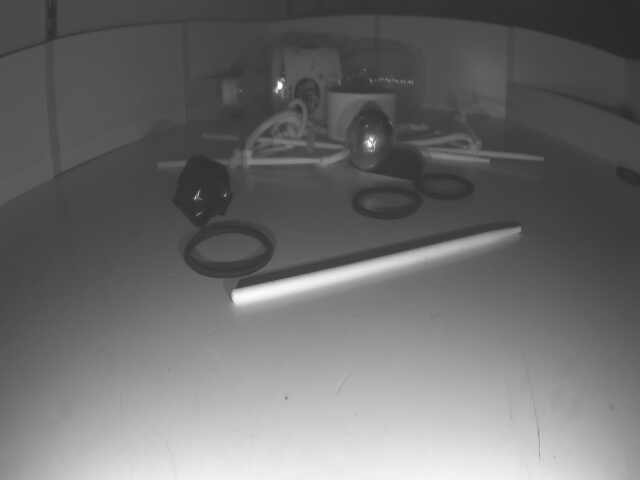Dead: (174, 157, 237, 226)
Live: (349, 109, 394, 170)
Point: (506, 81, 640, 175)
